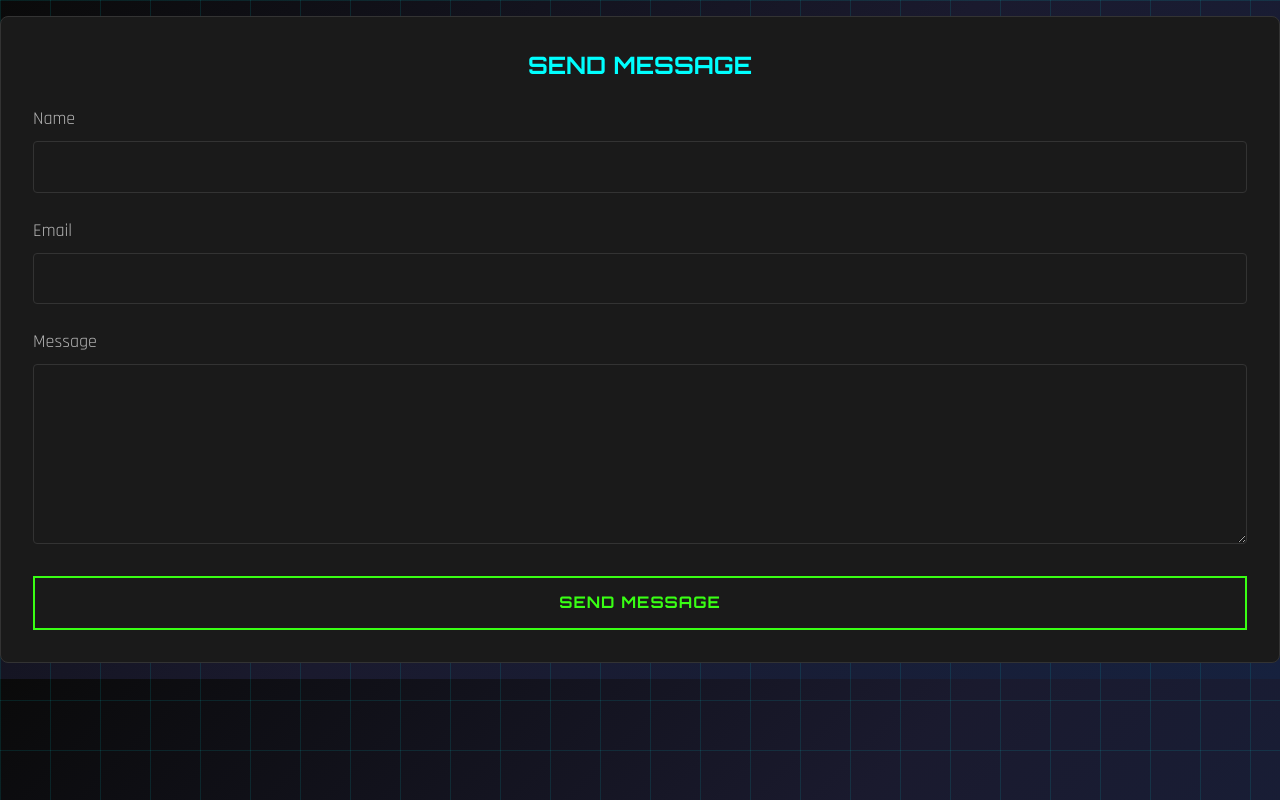
Test: Contact Form Integration › user can fill out and submit contact form
In the field labelled "Name": [640, 167] box [33,141,1247,193], type "John Doe"
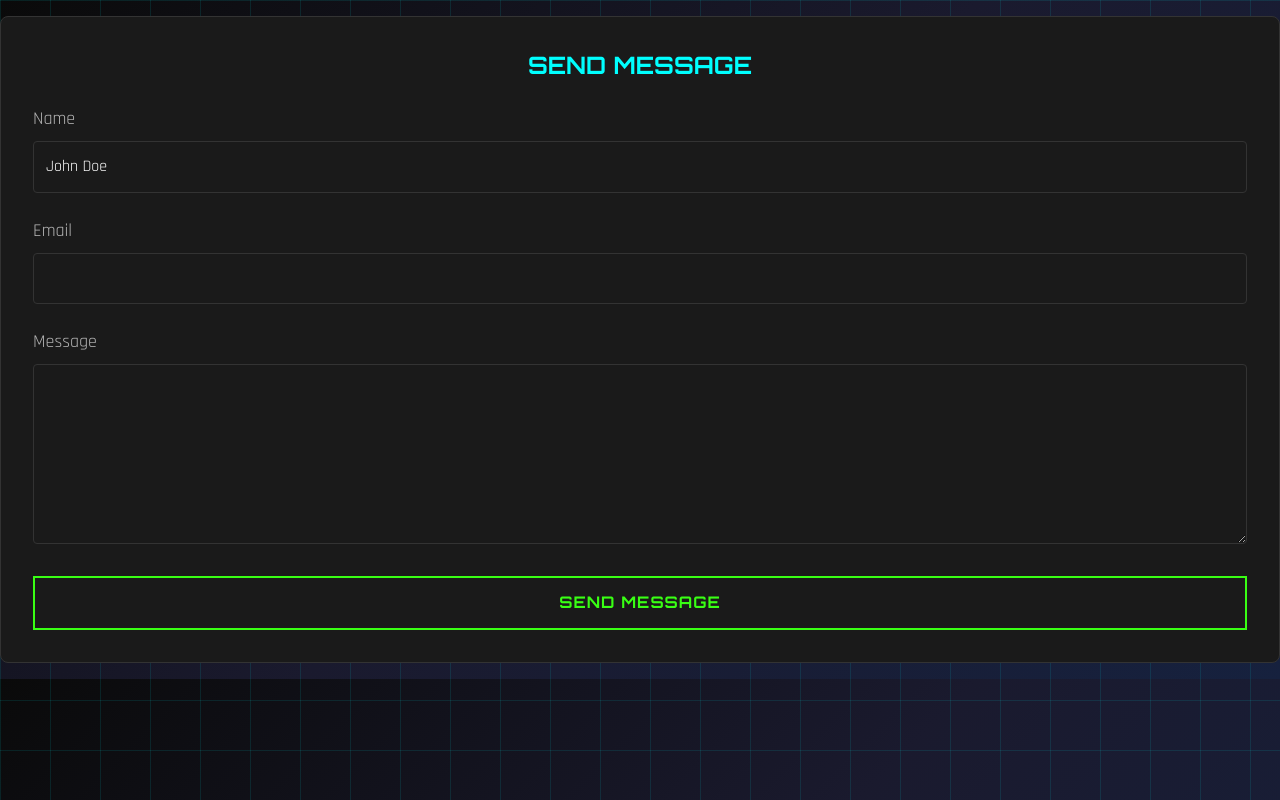
In the field labelled "Email": [640, 278] box [33,253,1247,304], type "john@example.com"
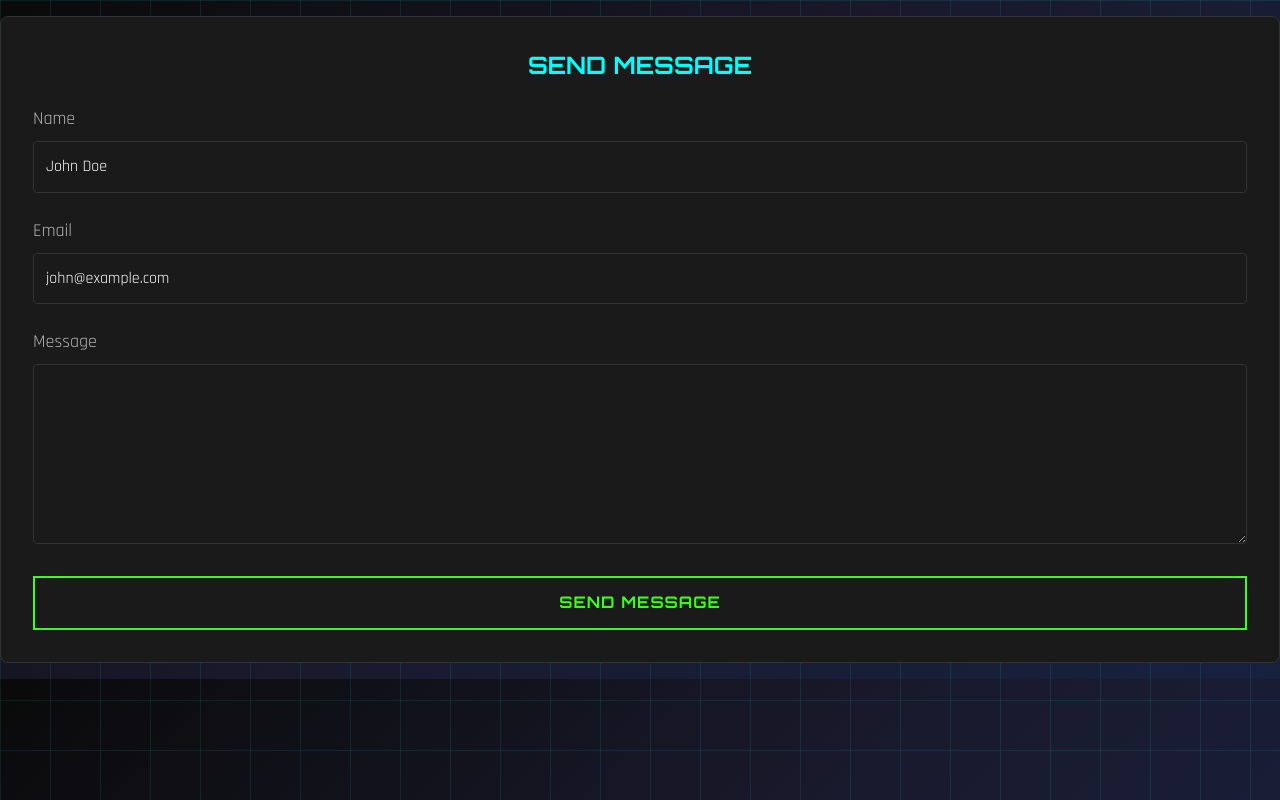
In the text box labelled "Message": [640, 454] box [33,364,1247,544], type "This is a test message for the contact form."
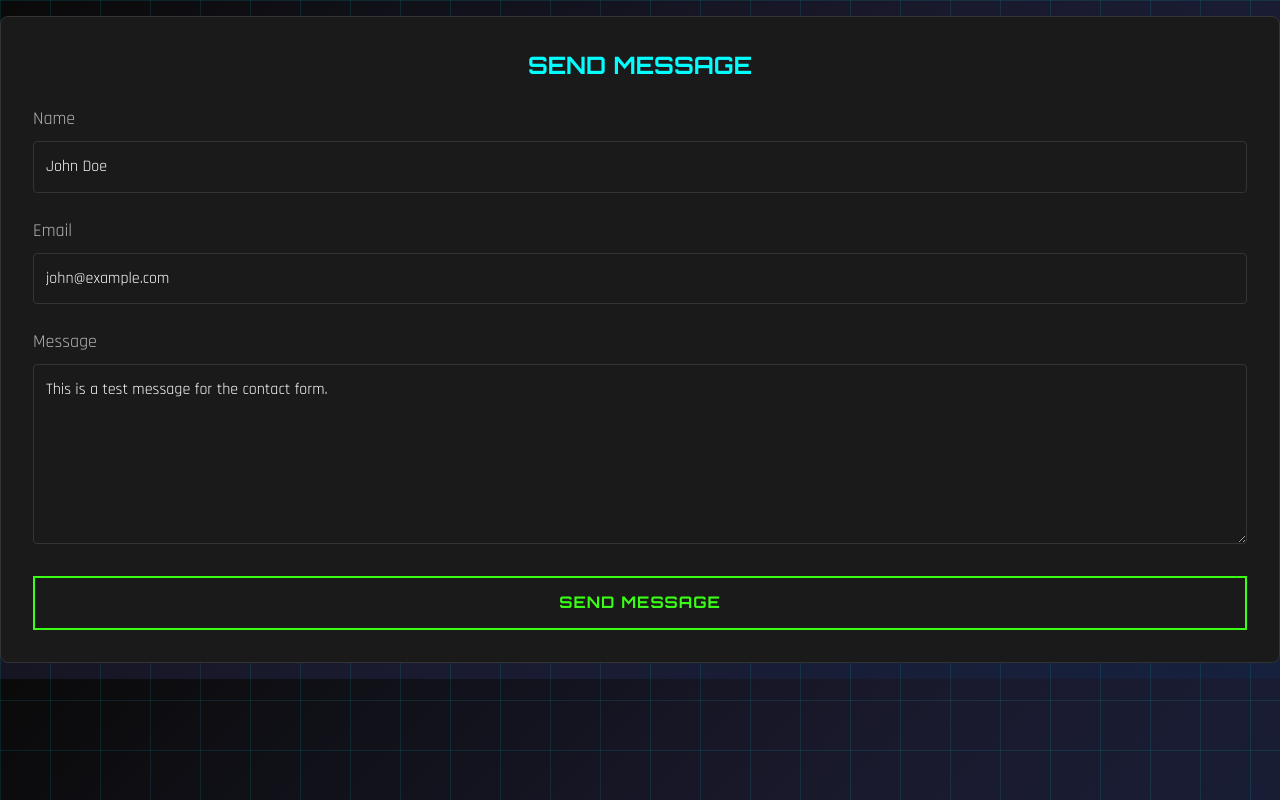
Submit the form
Click the button "SEND MESSAGE": [640, 603] box [33,576,1247,630]
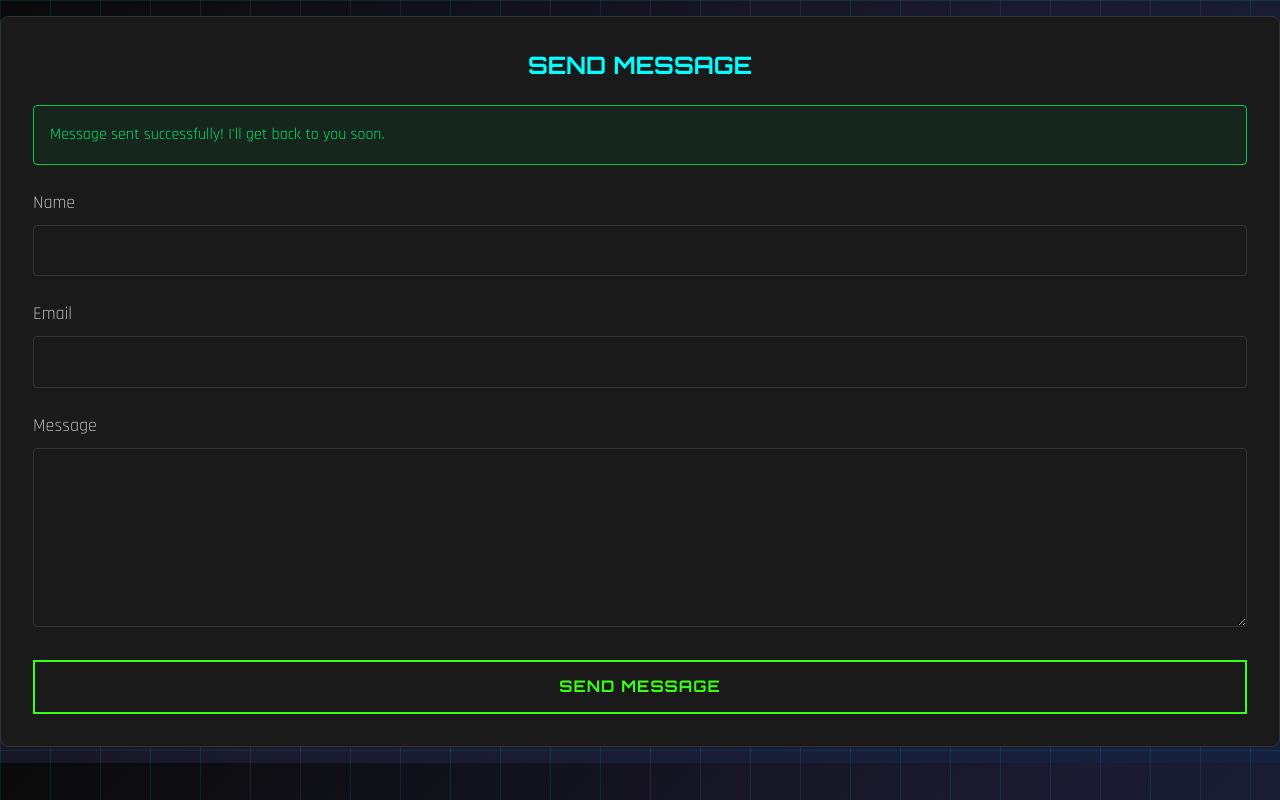
Expected: the text "Message sent successfully! I'll get back to you soon." is shown, [33,105,1247,165]
Expected: the field labelled "Name" is empty, [33,225,1247,276]
Expected: the field labelled "Email" is empty, [33,336,1247,388]
